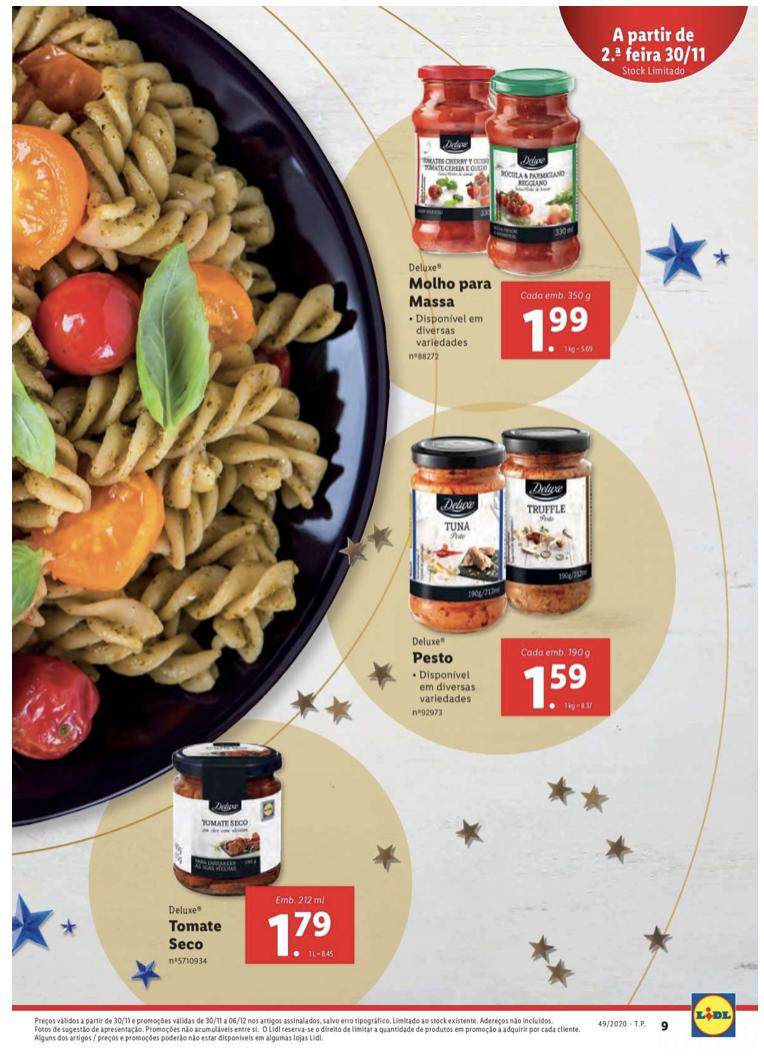name: (397, 269, 496, 309), (166, 917, 228, 953), (410, 651, 458, 668)
price: (515, 296, 607, 355), (258, 905, 340, 963), (520, 658, 604, 713)
product: (375, 50, 638, 366), (395, 420, 647, 725), (157, 741, 375, 979)
